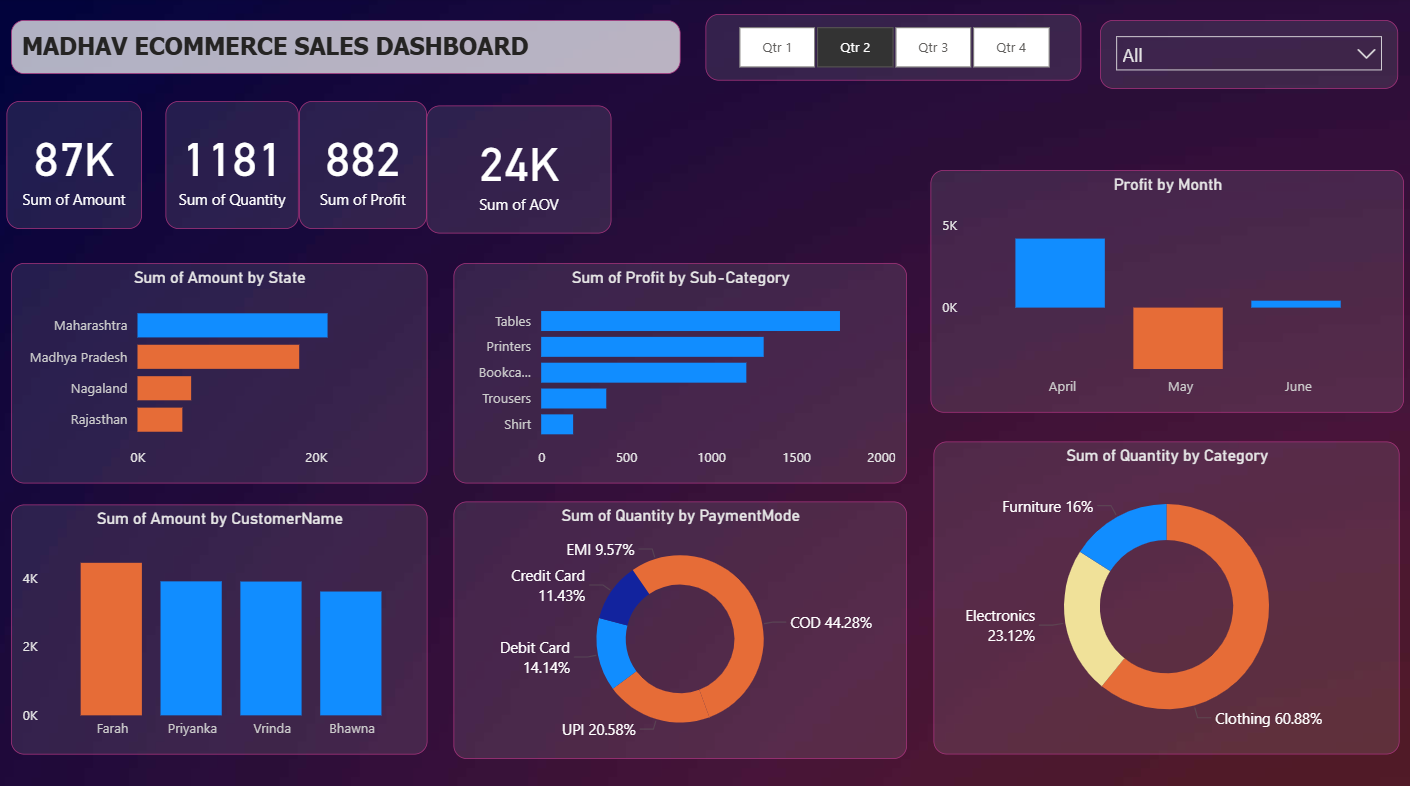

The page's visual inventory and layout, read from the dashboard file:
{"tool":"powerbi","page":{"name":"Page 1","canvas":[1280,720],"ordinal":0},"visuals":[{"type":"textbox","box":[13.3,21.7,603.3,48.3],"z":0},{"type":"columnChart","title":"Profit by Month","fields":{"Category":["Orders (1).Order Date.Variation.Date Hierarchy.Month"],"Y":["Details.Profit"]},"box":[841.7,156.7,426.7,218.3],"z":1000},{"type":"barChart","fields":{"Category":["Details.Sub-Category"],"Y":["Details.Profit"]},"box":[411.7,240,408.3,198.3],"z":2000},{"type":"donutChart","fields":{"Y":["Details.Quantity"],"Category":["Details.PaymentMode"]},"box":[411.7,455,408.3,231.7],"z":3000},{"type":"donutChart","fields":{"Category":["Details.Category"],"Y":["Details.Quantity"]},"box":[845,401.7,420,281.7],"z":4000},{"type":"card","fields":{"Values":["Details.Amount"]},"box":[10,95,121.7,115],"z":5000},{"type":"card","fields":{"Values":["Details.Quantity"]},"box":[153.3,95,120,115],"z":6000},{"type":"card","fields":{"Values":["Details.Profit"]},"box":[273.3,95,115,115],"z":7000},{"type":"card","fields":{"Values":["Details.AOV"]},"box":[388.3,98.3,166.7,115],"z":8000},{"type":"barChart","fields":{"Y":["Details.Amount"],"Category":["Orders (1).State"]},"box":[13.3,240,375,198.3],"z":9000},{"type":"columnChart","fields":{"Y":["Details.Amount"],"Category":["Orders (1).CustomerName"]},"box":[13.3,458.3,375,225],"z":10000},{"type":"slicer","fields":{"Values":["Orders (1).Order Date.Variation.Date Hierarchy.Quarter"]},"box":[640,16.7,338.3,60],"z":11000},{"type":"slicer","fields":{"Values":["Orders (1).State"]},"box":[995,21.7,268.3,61.7],"z":12000}]}

Visuals, with their boxes in screenshot pixels (x1, y1, x2, y2), scaled from the page's 1280x720 canvas onto the 1410x786 screenshot:
textbox: 15, 24, 679, 76
"Profit by Month" columnChart: 927, 171, 1397, 409
barChart - Details.Sub-Category x Details.Profit: 454, 262, 903, 478
donutChart - Details.Quantity x Details.PaymentMode: 454, 497, 903, 750
donutChart - Details.Category x Details.Quantity: 931, 439, 1393, 746
card - Details.Amount: 11, 104, 145, 229
card - Details.Quantity: 169, 104, 301, 229
card - Details.Profit: 301, 104, 428, 229
card - Details.AOV: 428, 107, 611, 233
barChart - Details.Amount x Orders (1).State: 15, 262, 428, 478
columnChart - Details.Amount x Orders (1).CustomerName: 15, 500, 428, 746
slicer - Orders (1).Order Date.Variation.Date Hierarchy.Quarter: 705, 18, 1078, 84
slicer - Orders (1).State: 1096, 24, 1392, 91
